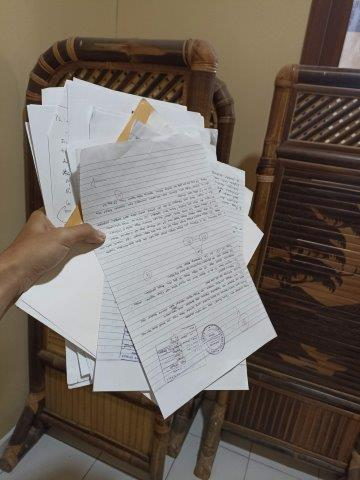kertas: (14, 77, 277, 417)
